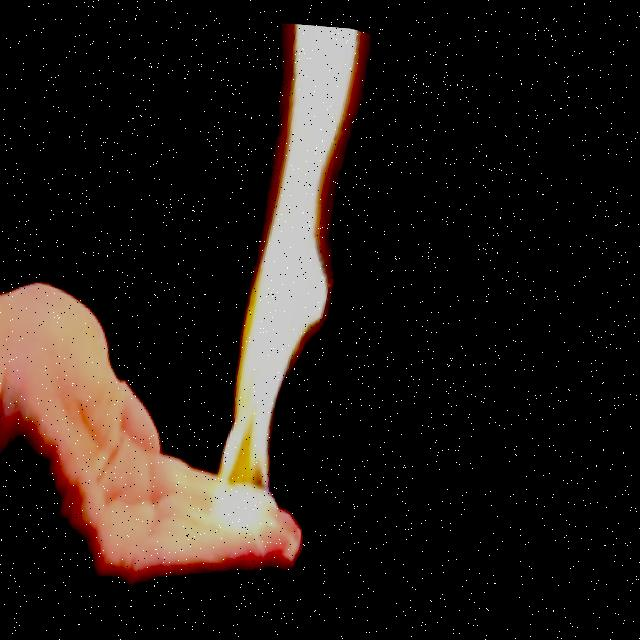Fire: (182, 12, 388, 543)
